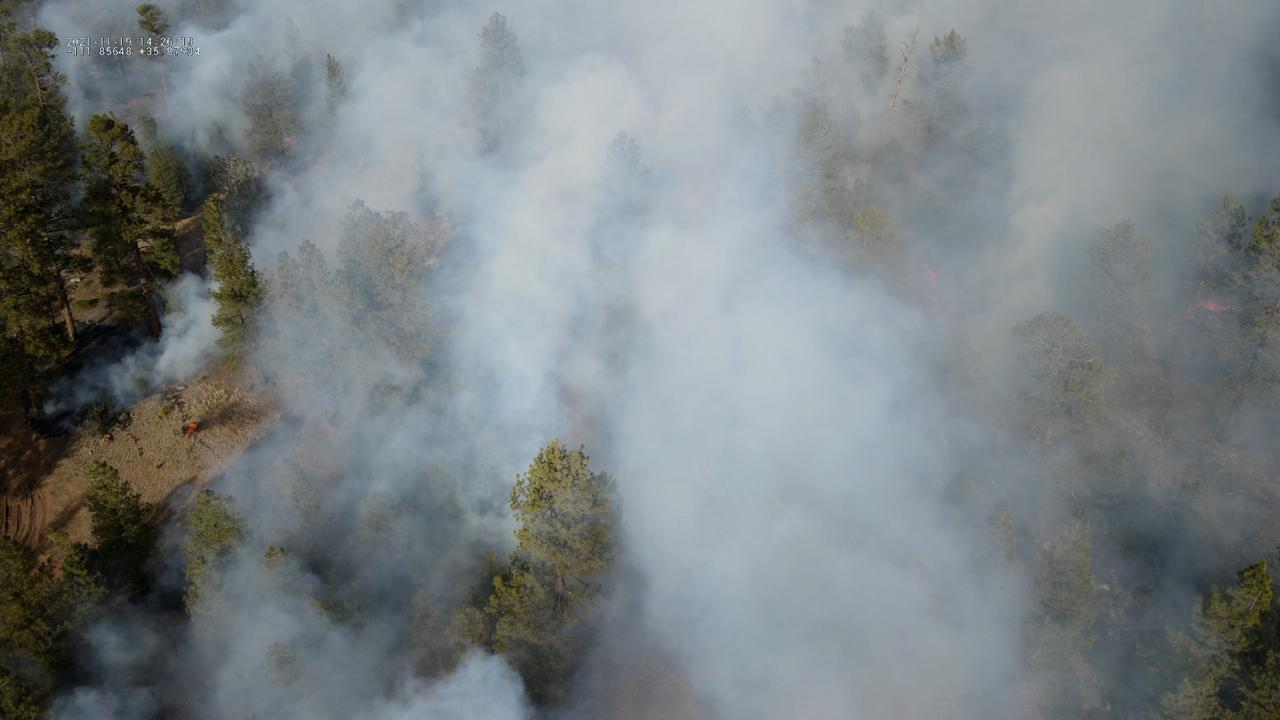fire: (1180, 299, 1227, 315), (925, 265, 944, 288), (186, 423, 197, 435), (281, 138, 295, 145)
smoke: (0, 0, 1280, 720)
